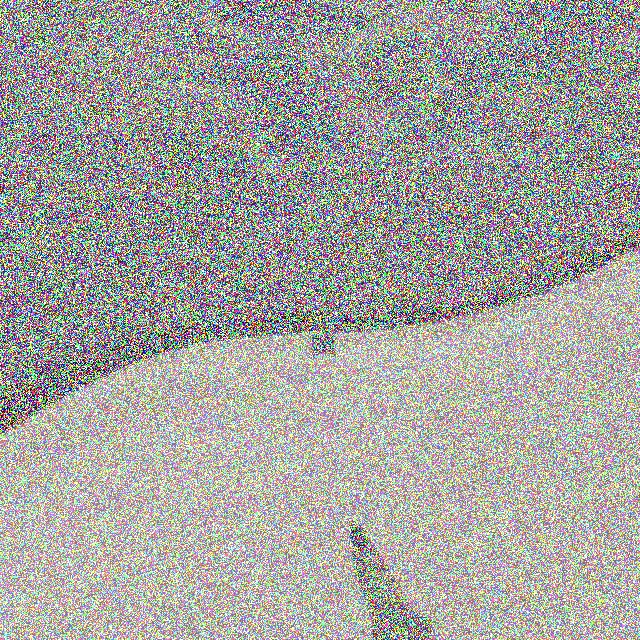green_car: (311, 319, 337, 358)
